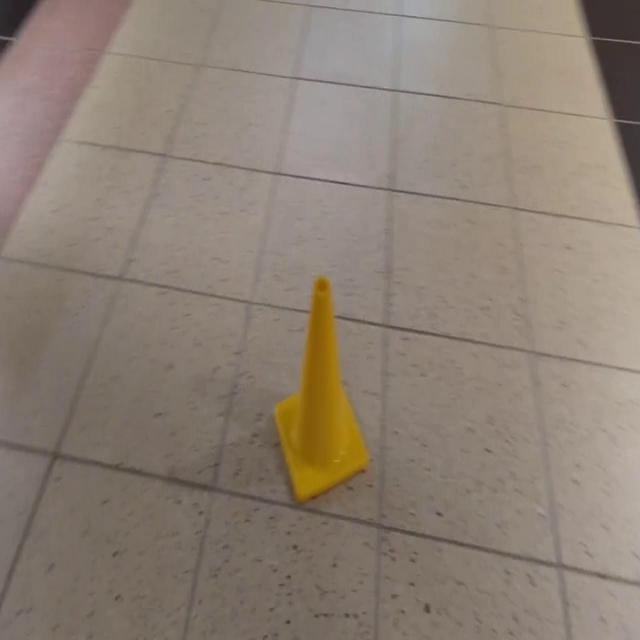frc_cone: (271, 276, 370, 505)
